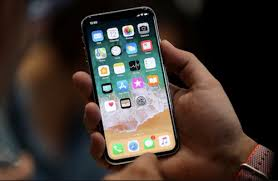iphone: (80, 6, 180, 165)
iphone10: (79, 5, 179, 164)
